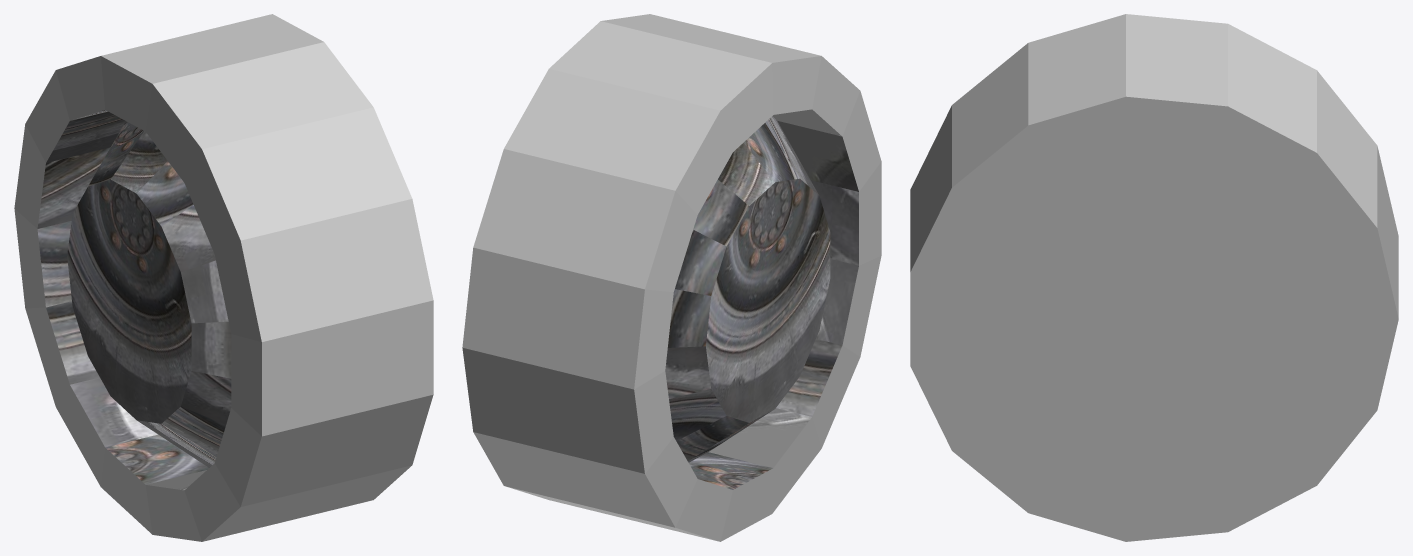
The model's file is wheel.fbx.
3 views of the same model, side by side, from view 1: azimuth 30°, elevation 25°; view 2: azimuth 150°, elevation 25°; view 3: azimuth 270°, elevation 25° (orthographic).
Visible parts, largest first — view 1: wheel; view 2: wheel; view 3: wheel.
Part boxes in pixels (x1,y1,x2,y2): wheel: [14, 14, 433, 541]; wheel: [462, 14, 881, 541]; wheel: [910, 14, 1398, 541].
Size of the model in its own units: 0.8363 by 1.99 by 1.98.
